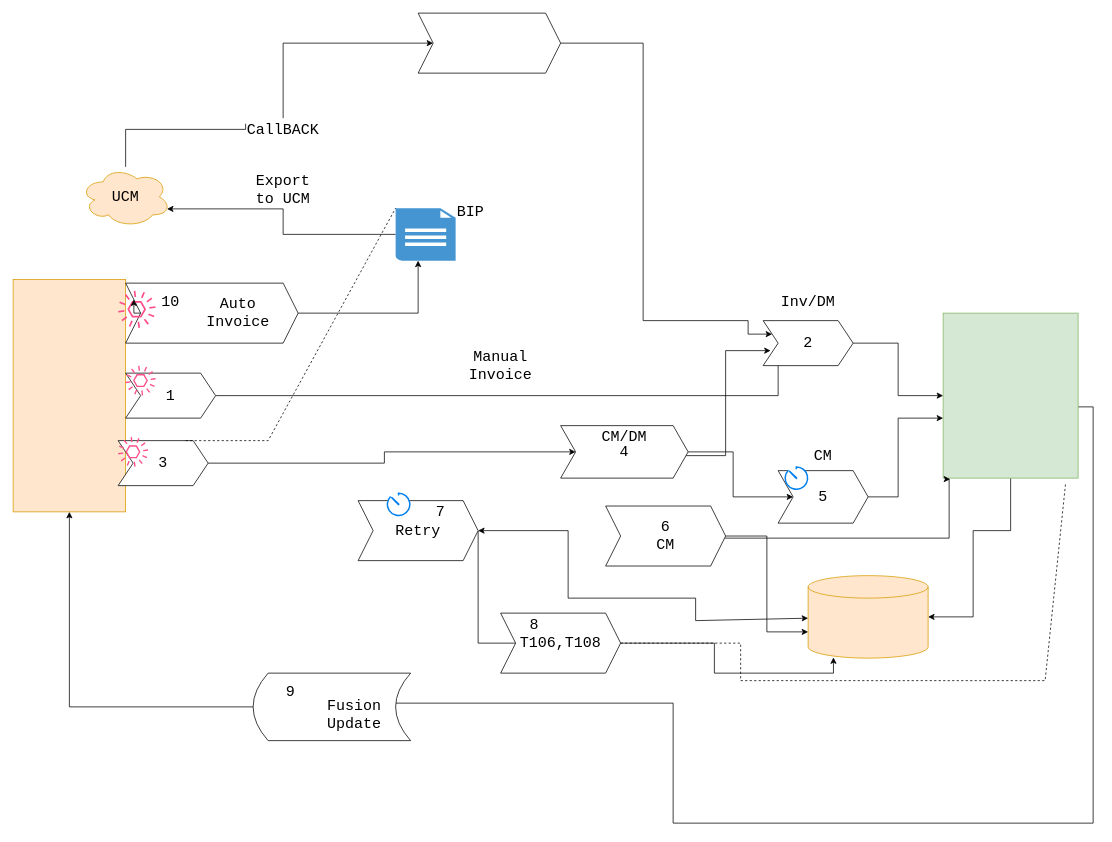
Some shapes in this 1112 by 842 pixel diagram are drawn without their labels. Each missing label, with the centre of its shape:
11 Bulk Extract: (489,42)
Oracle Fusion SAAS: (69,395)
OracleDBaas: (867,616)
URA-System: (1010,395)
